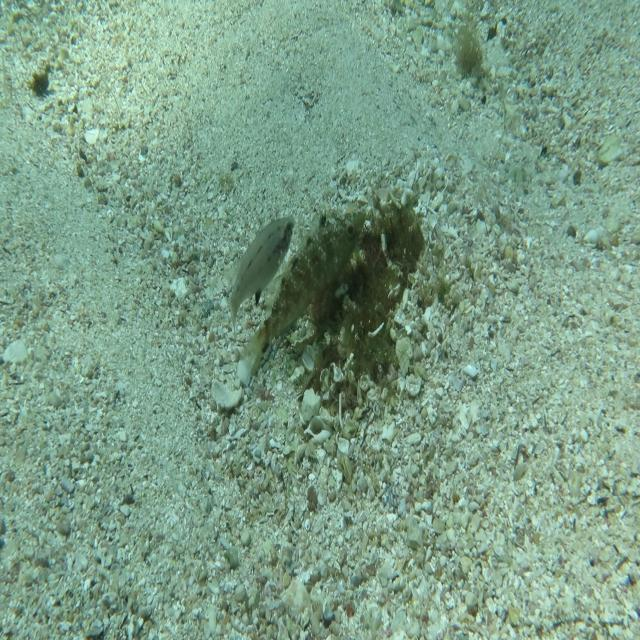FAN: (239, 204, 367, 378)
core_nest: (338, 206, 397, 264)
female: (224, 216, 296, 336)
nest: (285, 175, 430, 416)
